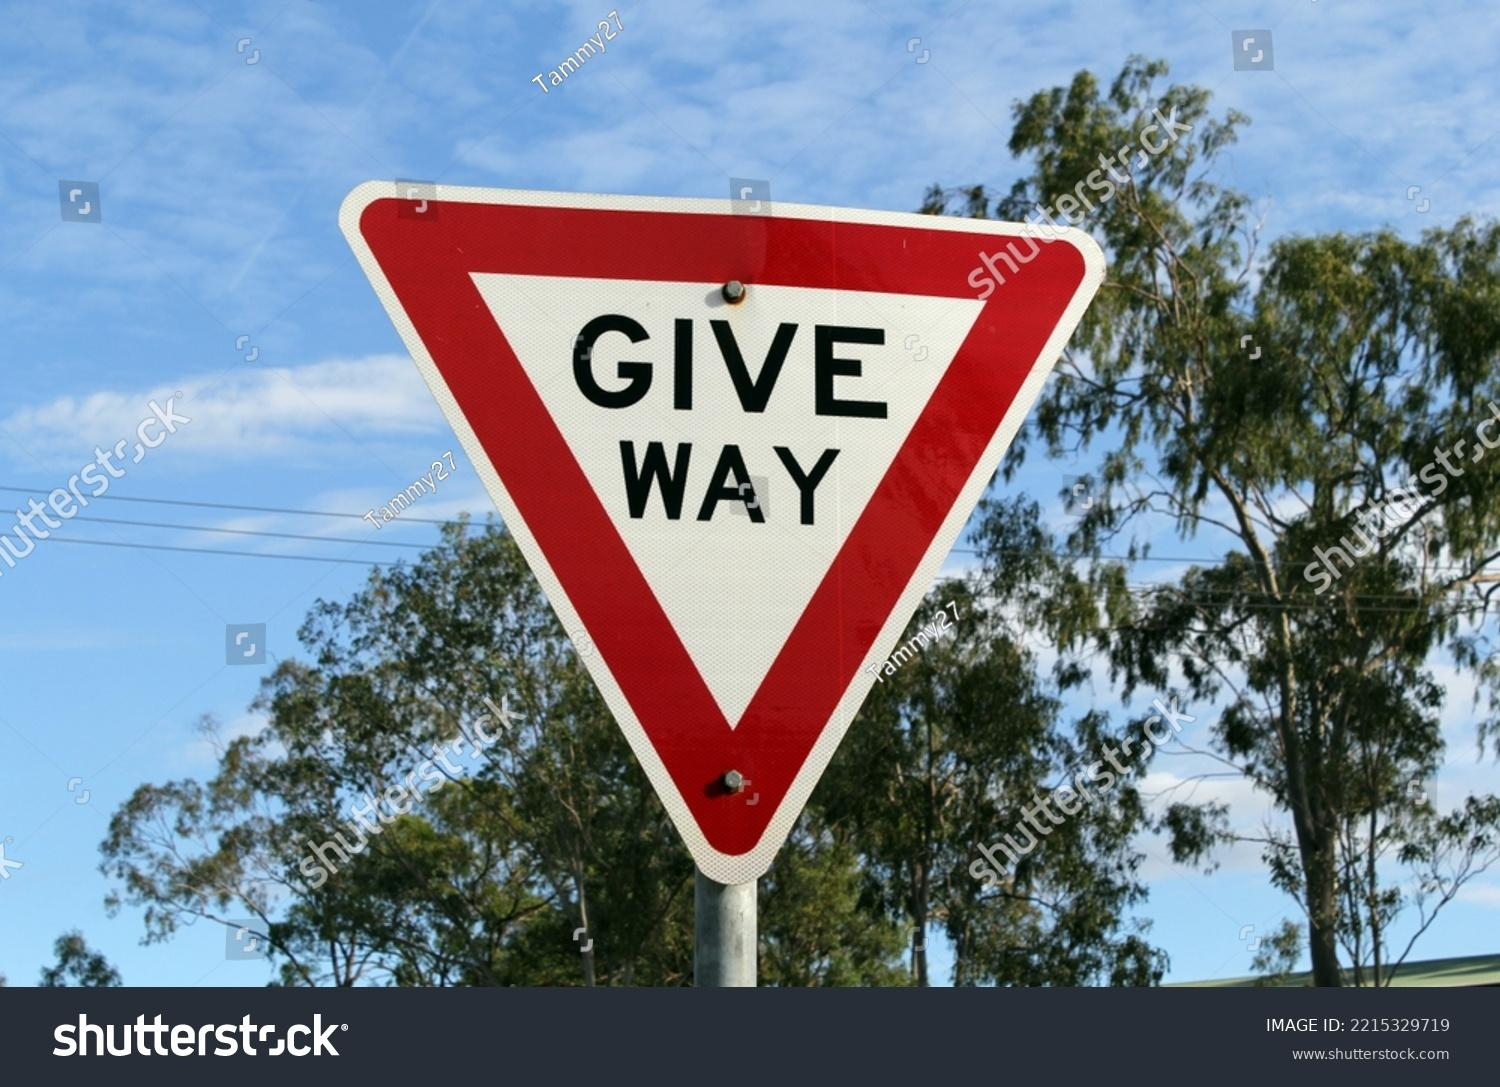Give Way: (361, 118, 1097, 818)
